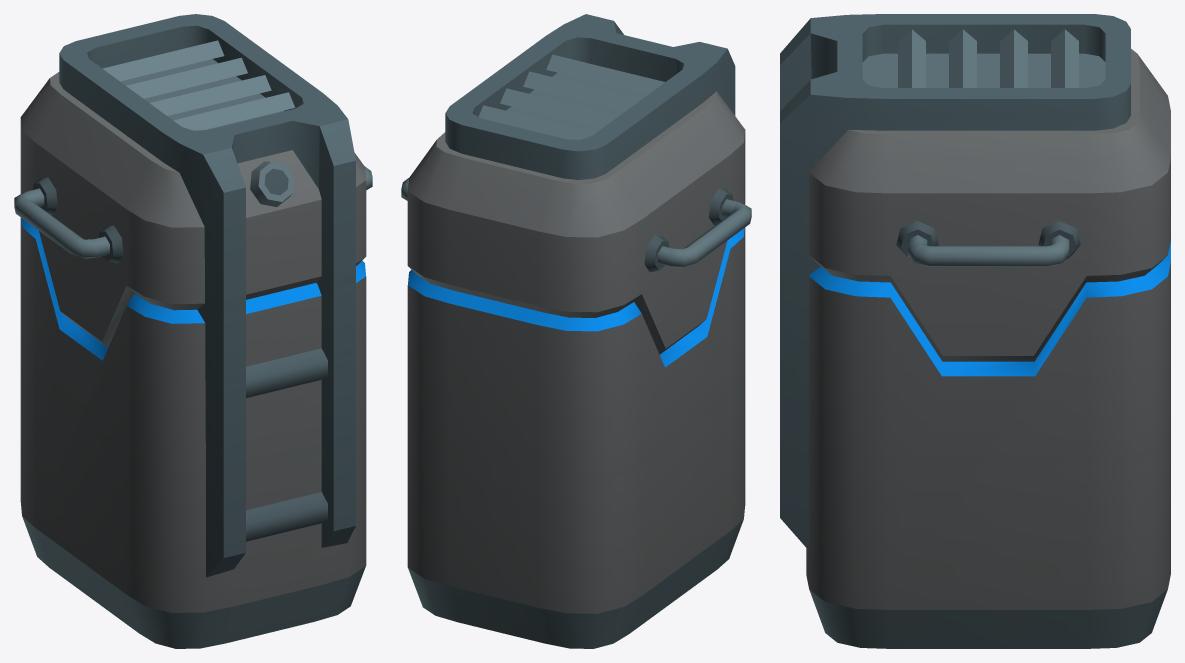
File: Barrel_010.fbx
3 views of the same model, side by side, from view 1: azimuth 30°, elevation 25°; view 2: azimuth 150°, elevation 25°; view 3: azimuth 270°, elevation 25° (orthographic). The views are drawn at different scales.
Parts seen in each view (by area): view 1: Barrel_010; view 2: Barrel_010; view 3: Barrel_010.
Boxes of the visible parts, x1=… form: Barrel_010: x1=14, y1=14, x2=372, y2=648; Barrel_010: x1=401, y1=14, x2=751, y2=648; Barrel_010: x1=780, y1=14, x2=1170, y2=648.
Size of the model in its own units: 66.9 by 69.66 by 106.
